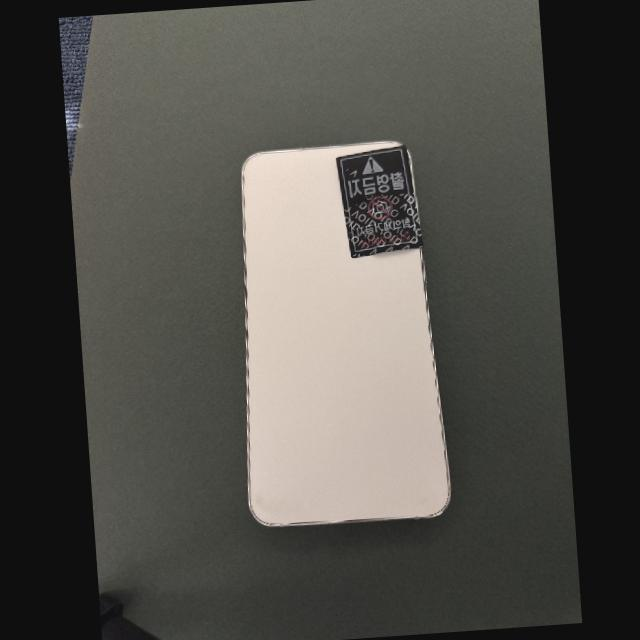phone: (241, 141, 450, 525)
sticker: (335, 146, 424, 257)
